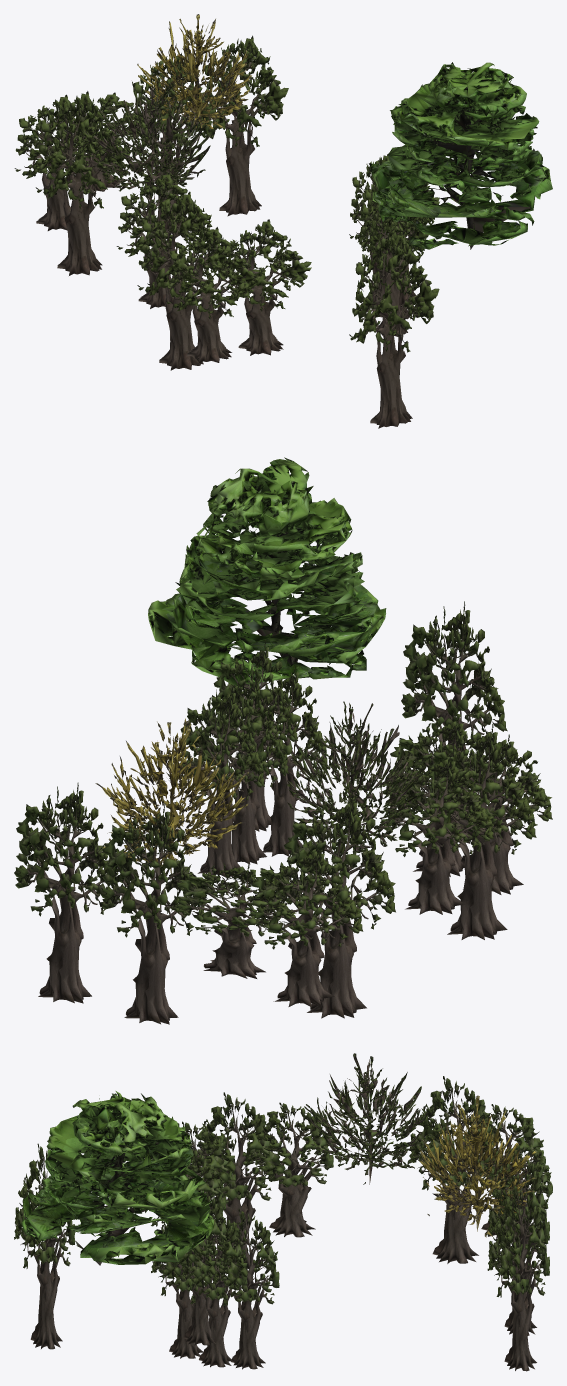
Rendered from Garten_Landschaft.gltf.
3 views of the same model, one above another, from view 1: azimuth 30°, elevation 25°; view 2: azimuth 150°, elevation 25°; view 3: azimuth 270°, elevation 25° (orthographic). The views are drawn at different scales.
Parts seen in each view (by area): view 1: _KieferMesh_0.002, Mesh_0.022, Mesh_0.020, _AppleTree.002, Mesh_0.018, Mesh_0.024, _AppleTree.003, Mesh_0.021, Mesh_0.027, Mesh_0.019, Mesh_0.026, Mesh_0.025 (+5 smaller); view 2: _KieferMesh_0.002, Mesh_0.024, Mesh_0.025, Mesh_0.020, Mesh_0.018, _AppleTree.003, _AppleTree.002, Mesh_0.026, Mesh_0.022, Mesh_0.019, Mesh_0.023, Mesh_0.017 (+5 smaller); view 3: _KieferMesh_0.002, _AppleTree.003, _AppleTree.002, Mesh_0.024, Mesh_0.019, Mesh_0.020, Mesh_0.018, Mesh_0.017, Mesh_0.022, Mesh_0.009, Mesh_0.001, Mesh_0.025 (+5 smaller).
Boxes of the visible parts, x1=… form: _KieferMesh_0.002: x1=369, y1=62, x2=552, y2=249; Mesh_0.022: x1=349, y1=232, x2=439, y2=428; Mesh_0.020: x1=35, y1=91, x2=129, y2=275; _AppleTree.002: x1=92, y1=77, x2=210, y2=202; Mesh_0.018: x1=137, y1=191, x2=229, y2=370; Mesh_0.024: x1=200, y1=35, x2=288, y2=216; _AppleTree.003: x1=137, y1=14, x2=252, y2=142; Mesh_0.021: x1=217, y1=219, x2=311, y2=355; Mesh_0.027: x1=165, y1=227, x2=259, y2=363; Mesh_0.019: x1=116, y1=172, x2=211, y2=308; Mesh_0.026: x1=14, y1=94, x2=104, y2=230; Mesh_0.025: x1=130, y1=53, x2=216, y2=229; _KieferMesh_0.002: x1=148, y1=457, x2=386, y2=687; Mesh_0.024: x1=14, y1=782, x2=120, y2=1003; Mesh_0.025: x1=100, y1=803, x2=204, y2=1024; Mesh_0.020: x1=284, y1=794, x2=395, y2=1018; Mesh_0.018: x1=422, y1=724, x2=536, y2=939; _AppleTree.003: x1=95, y1=718, x2=248, y2=873; _AppleTree.002: x1=286, y1=701, x2=424, y2=853; Mesh_0.026: x1=249, y1=846, x2=363, y2=1007; Mesh_0.022: x1=401, y1=601, x2=507, y2=843; Mesh_0.019: x1=380, y1=754, x2=493, y2=914; Mesh_0.023: x1=174, y1=863, x2=296, y2=978; Mesh_0.017: x1=180, y1=686, x2=264, y2=877; _KieferMesh_0.002: x1=21, y1=1091, x2=213, y2=1265; _AppleTree.003: x1=417, y1=1095, x2=536, y2=1237; _AppleTree.002: x1=304, y1=1053, x2=432, y2=1184; Mesh_0.024: x1=487, y1=1183, x2=549, y2=1371; Mesh_0.019: x1=246, y1=1102, x2=333, y2=1237; Mesh_0.020: x1=409, y1=1076, x2=495, y2=1263; Mesh_0.018: x1=190, y1=1092, x2=277, y2=1269; Mesh_0.017: x1=213, y1=1208, x2=279, y2=1369; Mesh_0.022: x1=14, y1=1143, x2=75, y2=1349; Mesh_0.009: x1=181, y1=1210, x2=247, y2=1367; Mesh_0.001: x1=175, y1=1189, x2=230, y2=1345; Mesh_0.025: x1=487, y1=1148, x2=549, y2=1335.
Size of the model in its own units: 15.37 by 12.38 by 20.07.
Materials: 17 (17 with a texture image).
